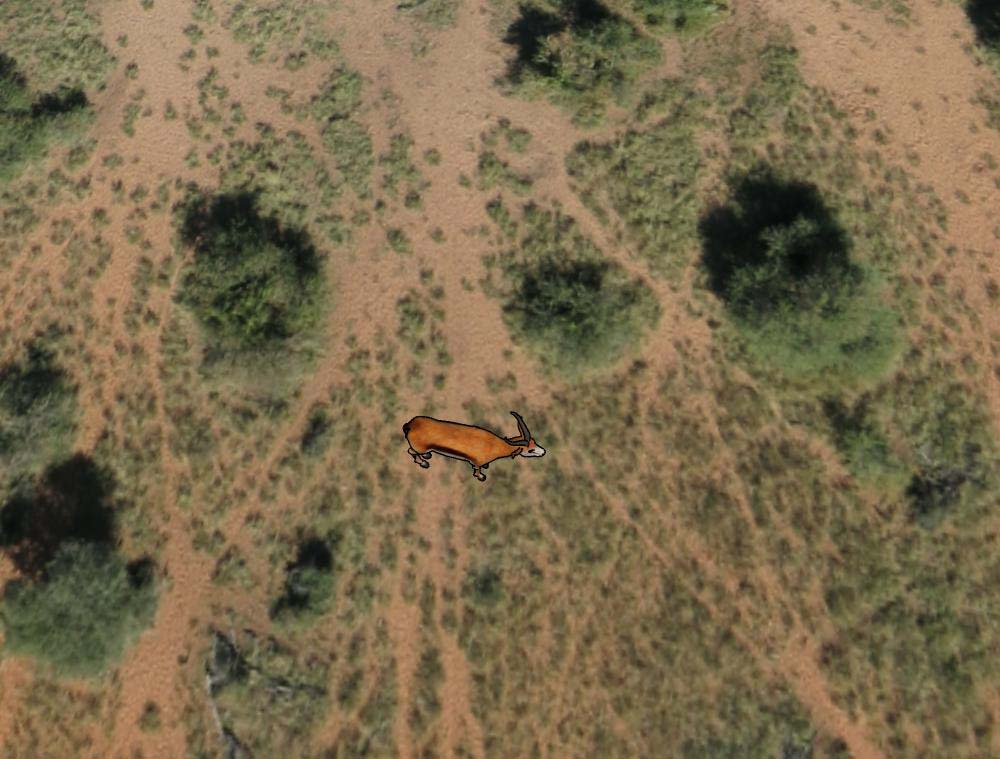springbok: (398, 399, 550, 491)
